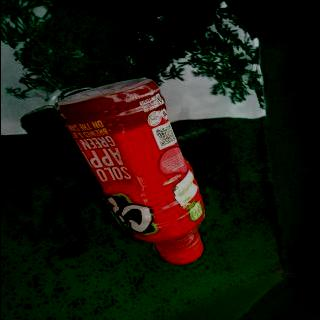bottle: (55, 76, 207, 267)
